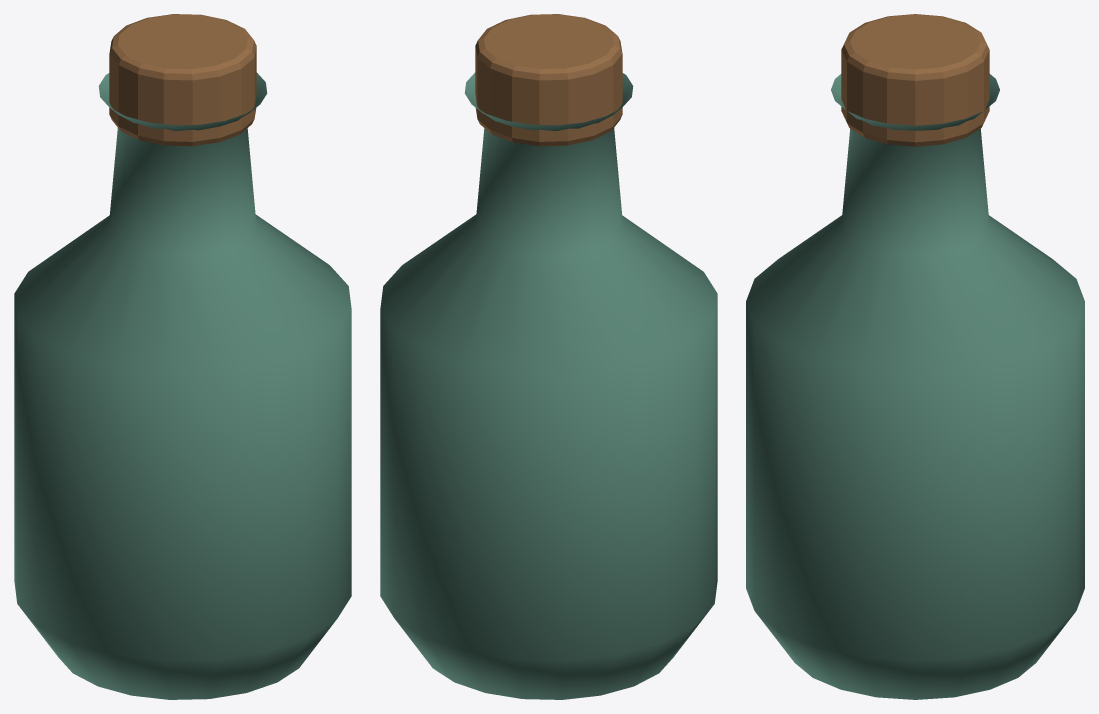
File: SM_HH_Art_Vial.fbx
3 views of the same model, side by side, from view 1: azimuth 30°, elevation 25°; view 2: azimuth 150°, elevation 25°; view 3: azimuth 270°, elevation 25° (orthographic).
Parts seen in each view (by area): view 1: HH_Art_Vial; view 2: HH_Art_Vial; view 3: HH_Art_Vial.
Boxes of the visible parts, x1,y1,x2,y2 form: HH_Art_Vial: [14, 14, 351, 699]; HH_Art_Vial: [380, 14, 717, 699]; HH_Art_Vial: [746, 14, 1084, 699].
Size of the model in its own units: 0.16 by 0.16 by 0.325.
